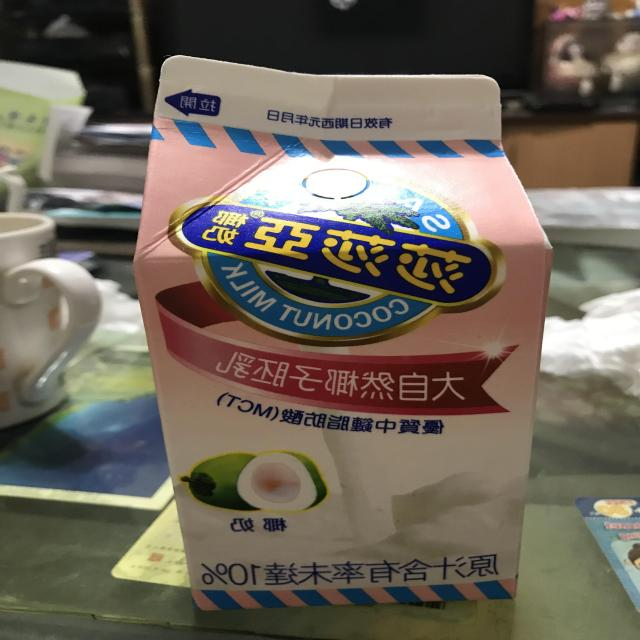cardboard: (139, 48, 547, 610)
